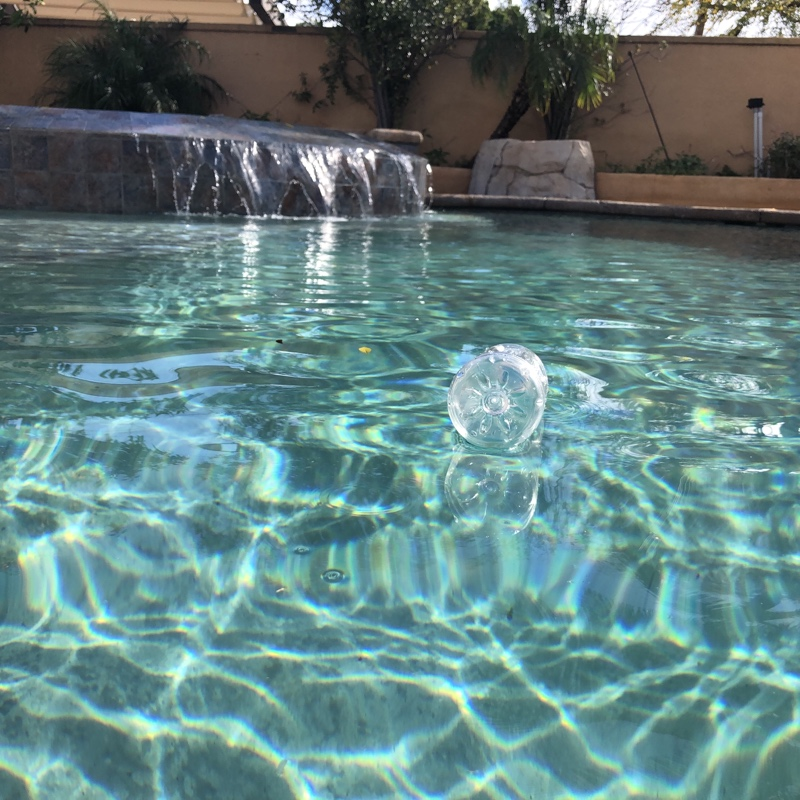Plastic Bottle: (444, 338, 552, 457)
